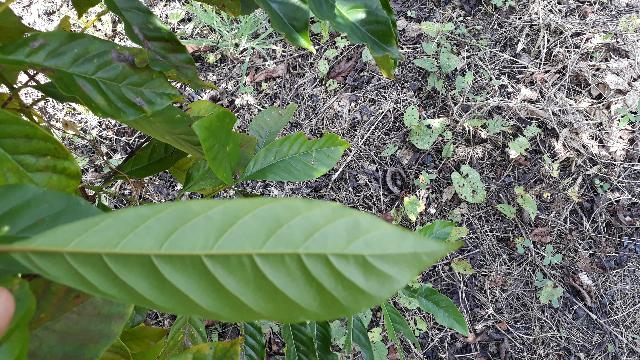healthy: (9, 195, 465, 322)
